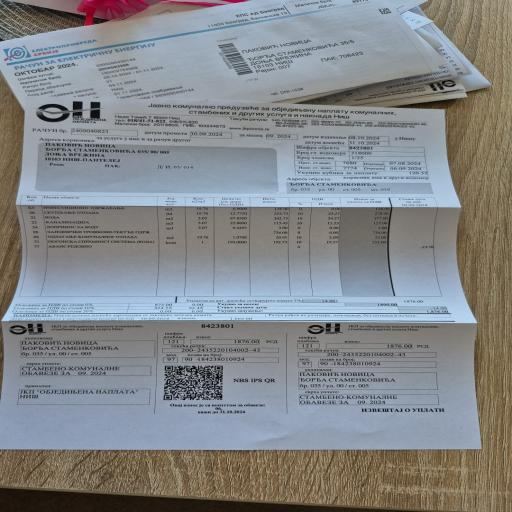stambene_usluge_nis: (293, 145, 431, 176)
stambene_usluge_nis_iznos: (213, 303, 453, 314)
